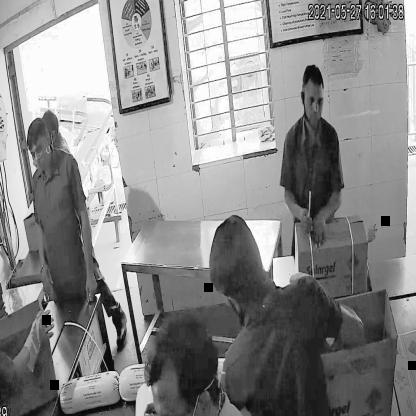no_goggles: (298, 87, 328, 112), (26, 137, 52, 165)
